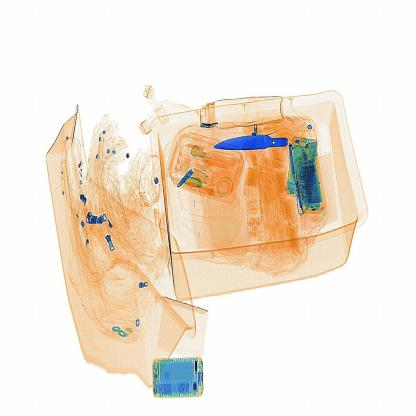wrench: (213, 134, 305, 152)
